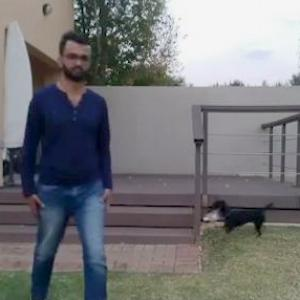follow: (26, 28, 129, 299)
